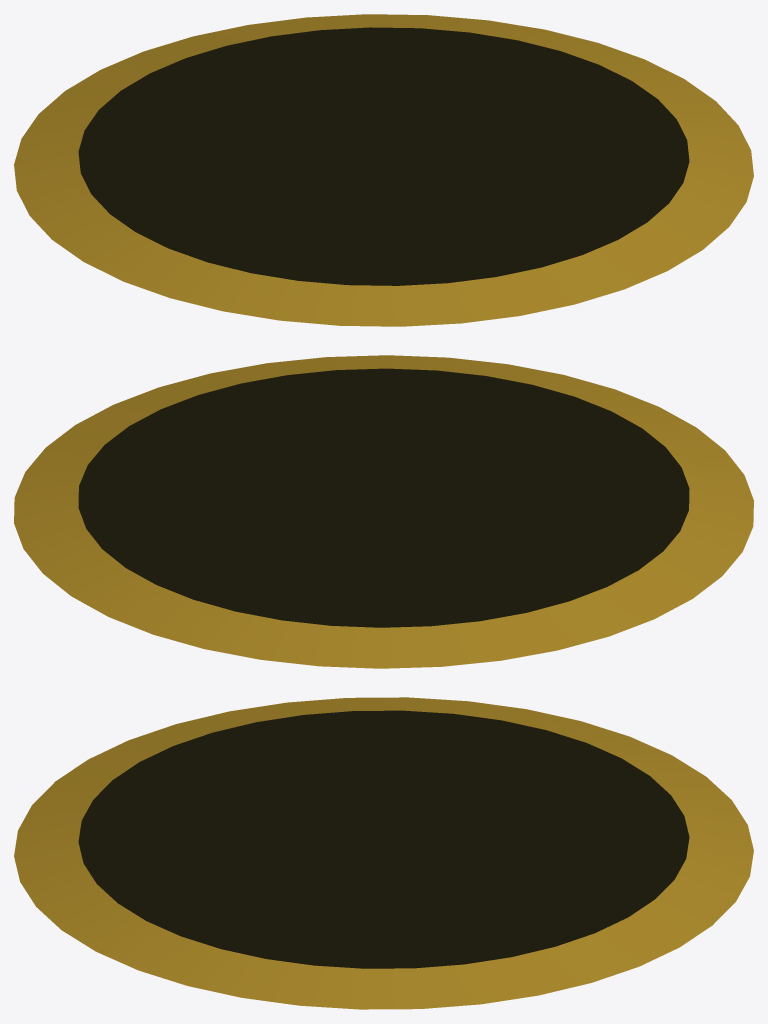
3 views of the same model, one above another, from view 1: azimuth 30°, elevation 25°; view 2: azimuth 150°, elevation 25°; view 3: azimuth 270°, elevation 25° (orthographic).
Visible parts, largest first — view 1: Cylinder.003; view 2: Cylinder.003; view 3: Cylinder.003.
Part boxes in pixels (left/top/right/bottom): Cylinder.003: left=14, top=14, right=753, bottom=326; Cylinder.003: left=14, top=355, right=753, bottom=668; Cylinder.003: left=14, top=697, right=753, bottom=1009.
Bounding box in the file's own units: 1.67 × 0.0348 × 1.67.
